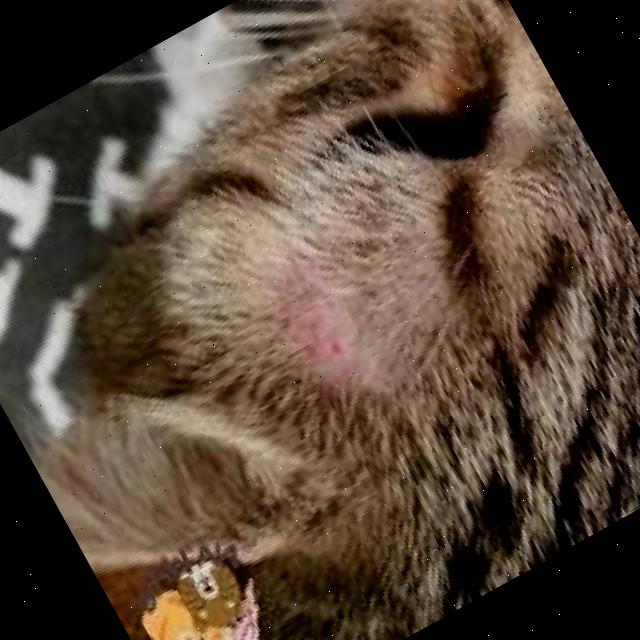cat-hairloss: (294, 294, 374, 386)
